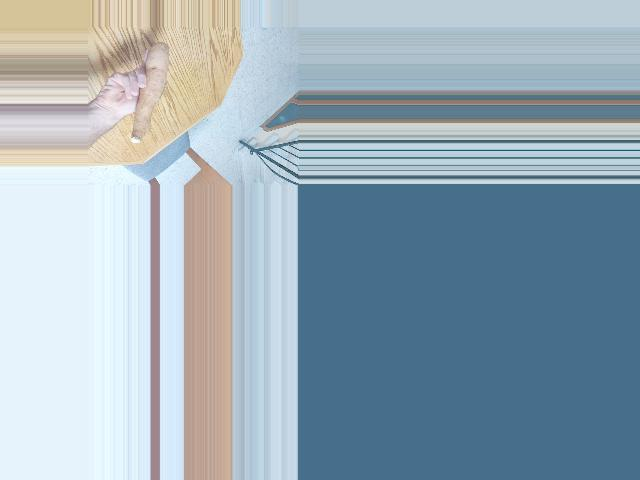sweet_potato: (130, 45, 175, 146)
